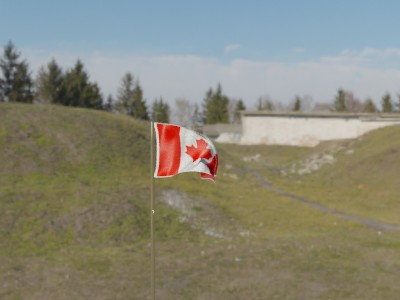Canada flag: (152, 121, 222, 183)
